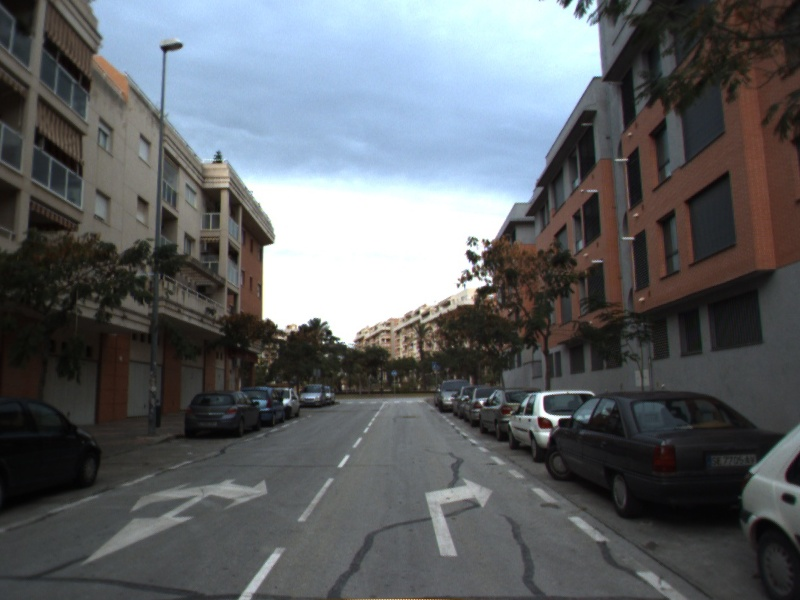RIGHT: (423, 476, 495, 558)
